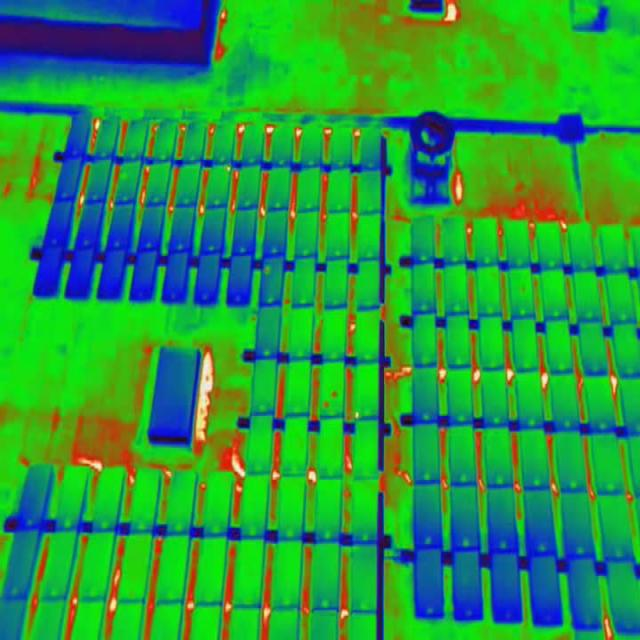Orange-Spots: (330, 390, 338, 400), (322, 399, 329, 408), (265, 267, 270, 276), (354, 412, 360, 419), (226, 166, 231, 172)
